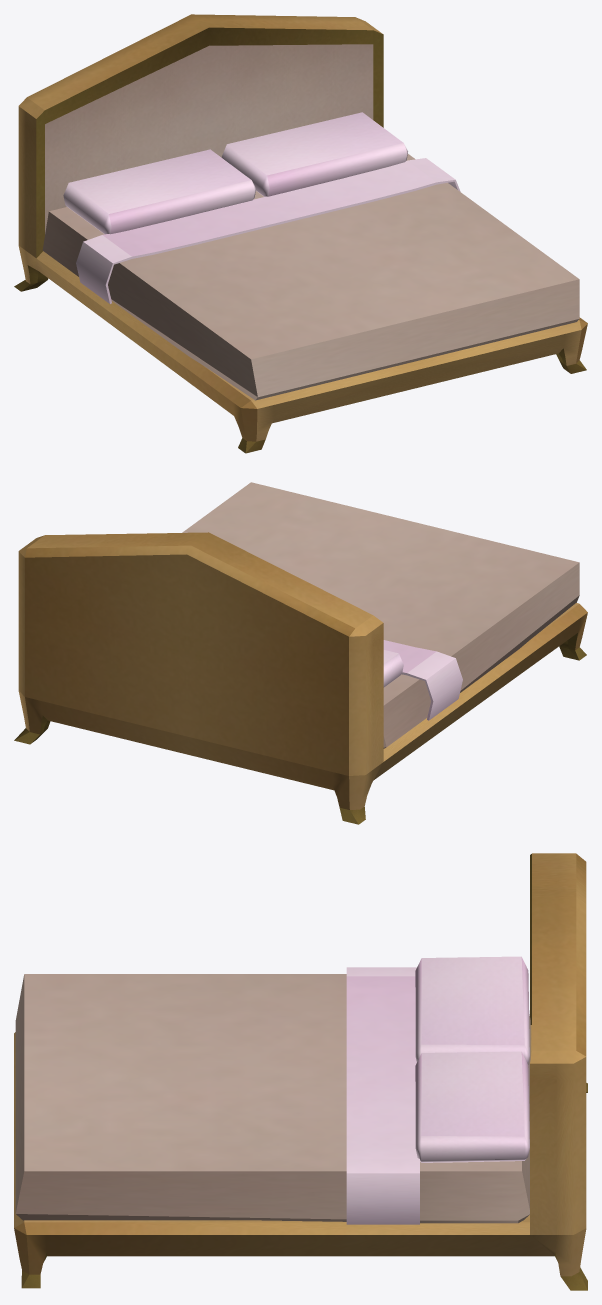
Rendered from SM_full_bed_02.fbx.
The picture shows the model from 3 angles, top to bottom: view 1: azimuth 30°, elevation 25°; view 2: azimuth 150°, elevation 25°; view 3: azimuth 270°, elevation 25°; orthographic projection. The views are drawn at different scales.
Visible parts, largest first — view 1: SM_full_bed_02; view 2: SM_full_bed_02; view 3: SM_full_bed_02.
Boxes of the visible parts, x1,y1,x2,y2 form: SM_full_bed_02: (14, 14, 587, 453); SM_full_bed_02: (14, 482, 587, 824); SM_full_bed_02: (14, 853, 587, 1290).
Bounding box in the file's own units: 2.66 × 1.66 × 3.
